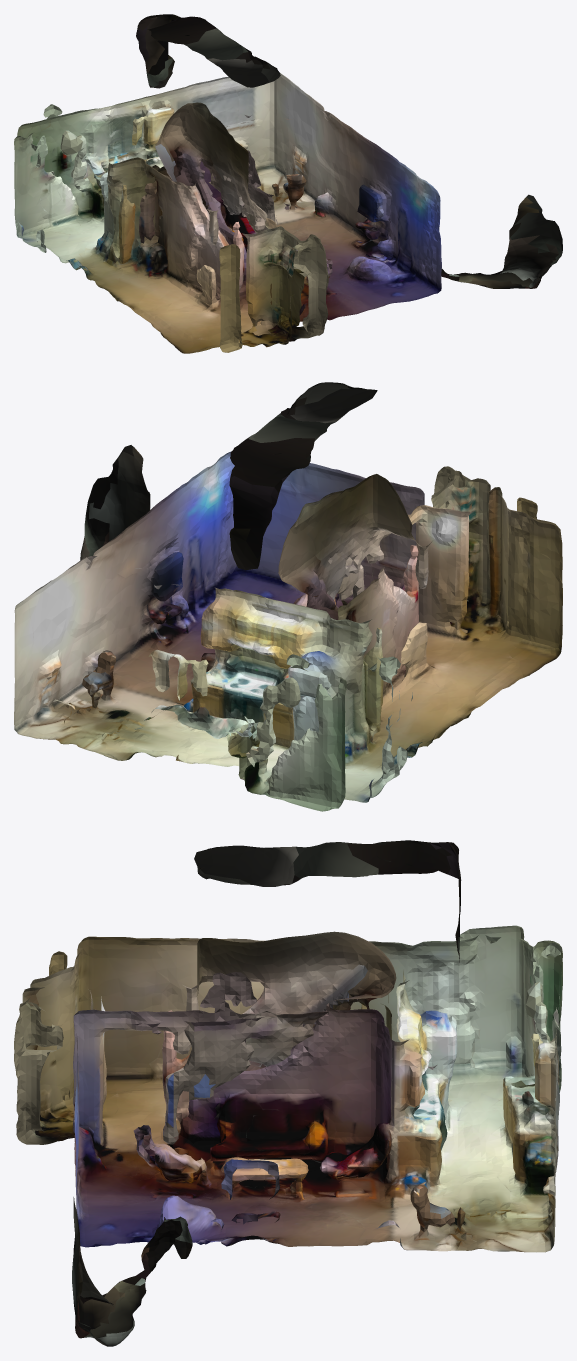
The model's file is RAPTSB_main.gltf.
3 renders of one model, top to bottom at view 1: azimuth 30°, elevation 25°; view 2: azimuth 150°, elevation 25°; view 3: azimuth 270°, elevation 25°, orthographic. The views are drawn at different scales.
Size of the model in its own units: 9.48 by 5.5 by 8.4.
Materials: 1 (1 with a texture image).
